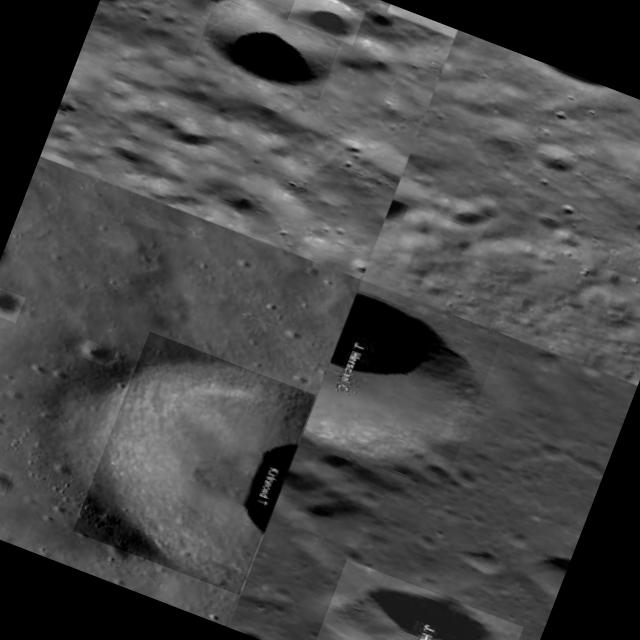crater: (72, 332, 316, 596), (301, 290, 499, 492), (309, 559, 523, 640), (194, 0, 340, 102), (287, 0, 366, 45), (80, 339, 118, 368), (0, 284, 25, 323), (0, 461, 12, 496)
